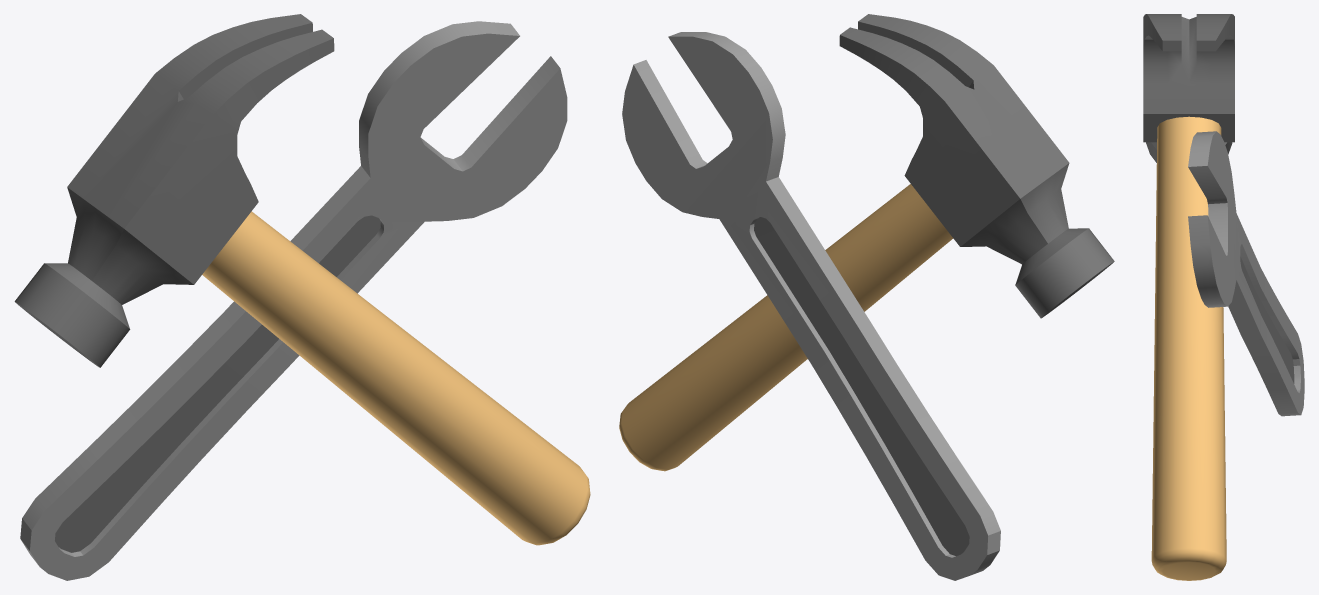
File: hammer_and_wrench.glb
3 renders of one model, left to right at view 1: azimuth 30°, elevation 25°; view 2: azimuth 150°, elevation 25°; view 3: azimuth 270°, elevation 25°, orthographic. The views are drawn at different scales.
Visible parts, largest first — view 1: Cube.989, Circle.2586; view 2: Cube.989, Circle.2586; view 3: Cube.989, Circle.2586.
Boxes of the visible parts, box(x1,y1,x2,y2) form: Cube.989: box(14, 14, 590, 545); Circle.2586: box(20, 21, 567, 580); Cube.989: box(619, 14, 1114, 471); Circle.2586: box(622, 32, 1000, 580); Cube.989: box(1143, 14, 1234, 580); Circle.2586: box(1188, 131, 1304, 416).
Size of the model in its own units: 2.18 by 2.11 by 0.6766.
Materials: 1 (1 with a texture image).
